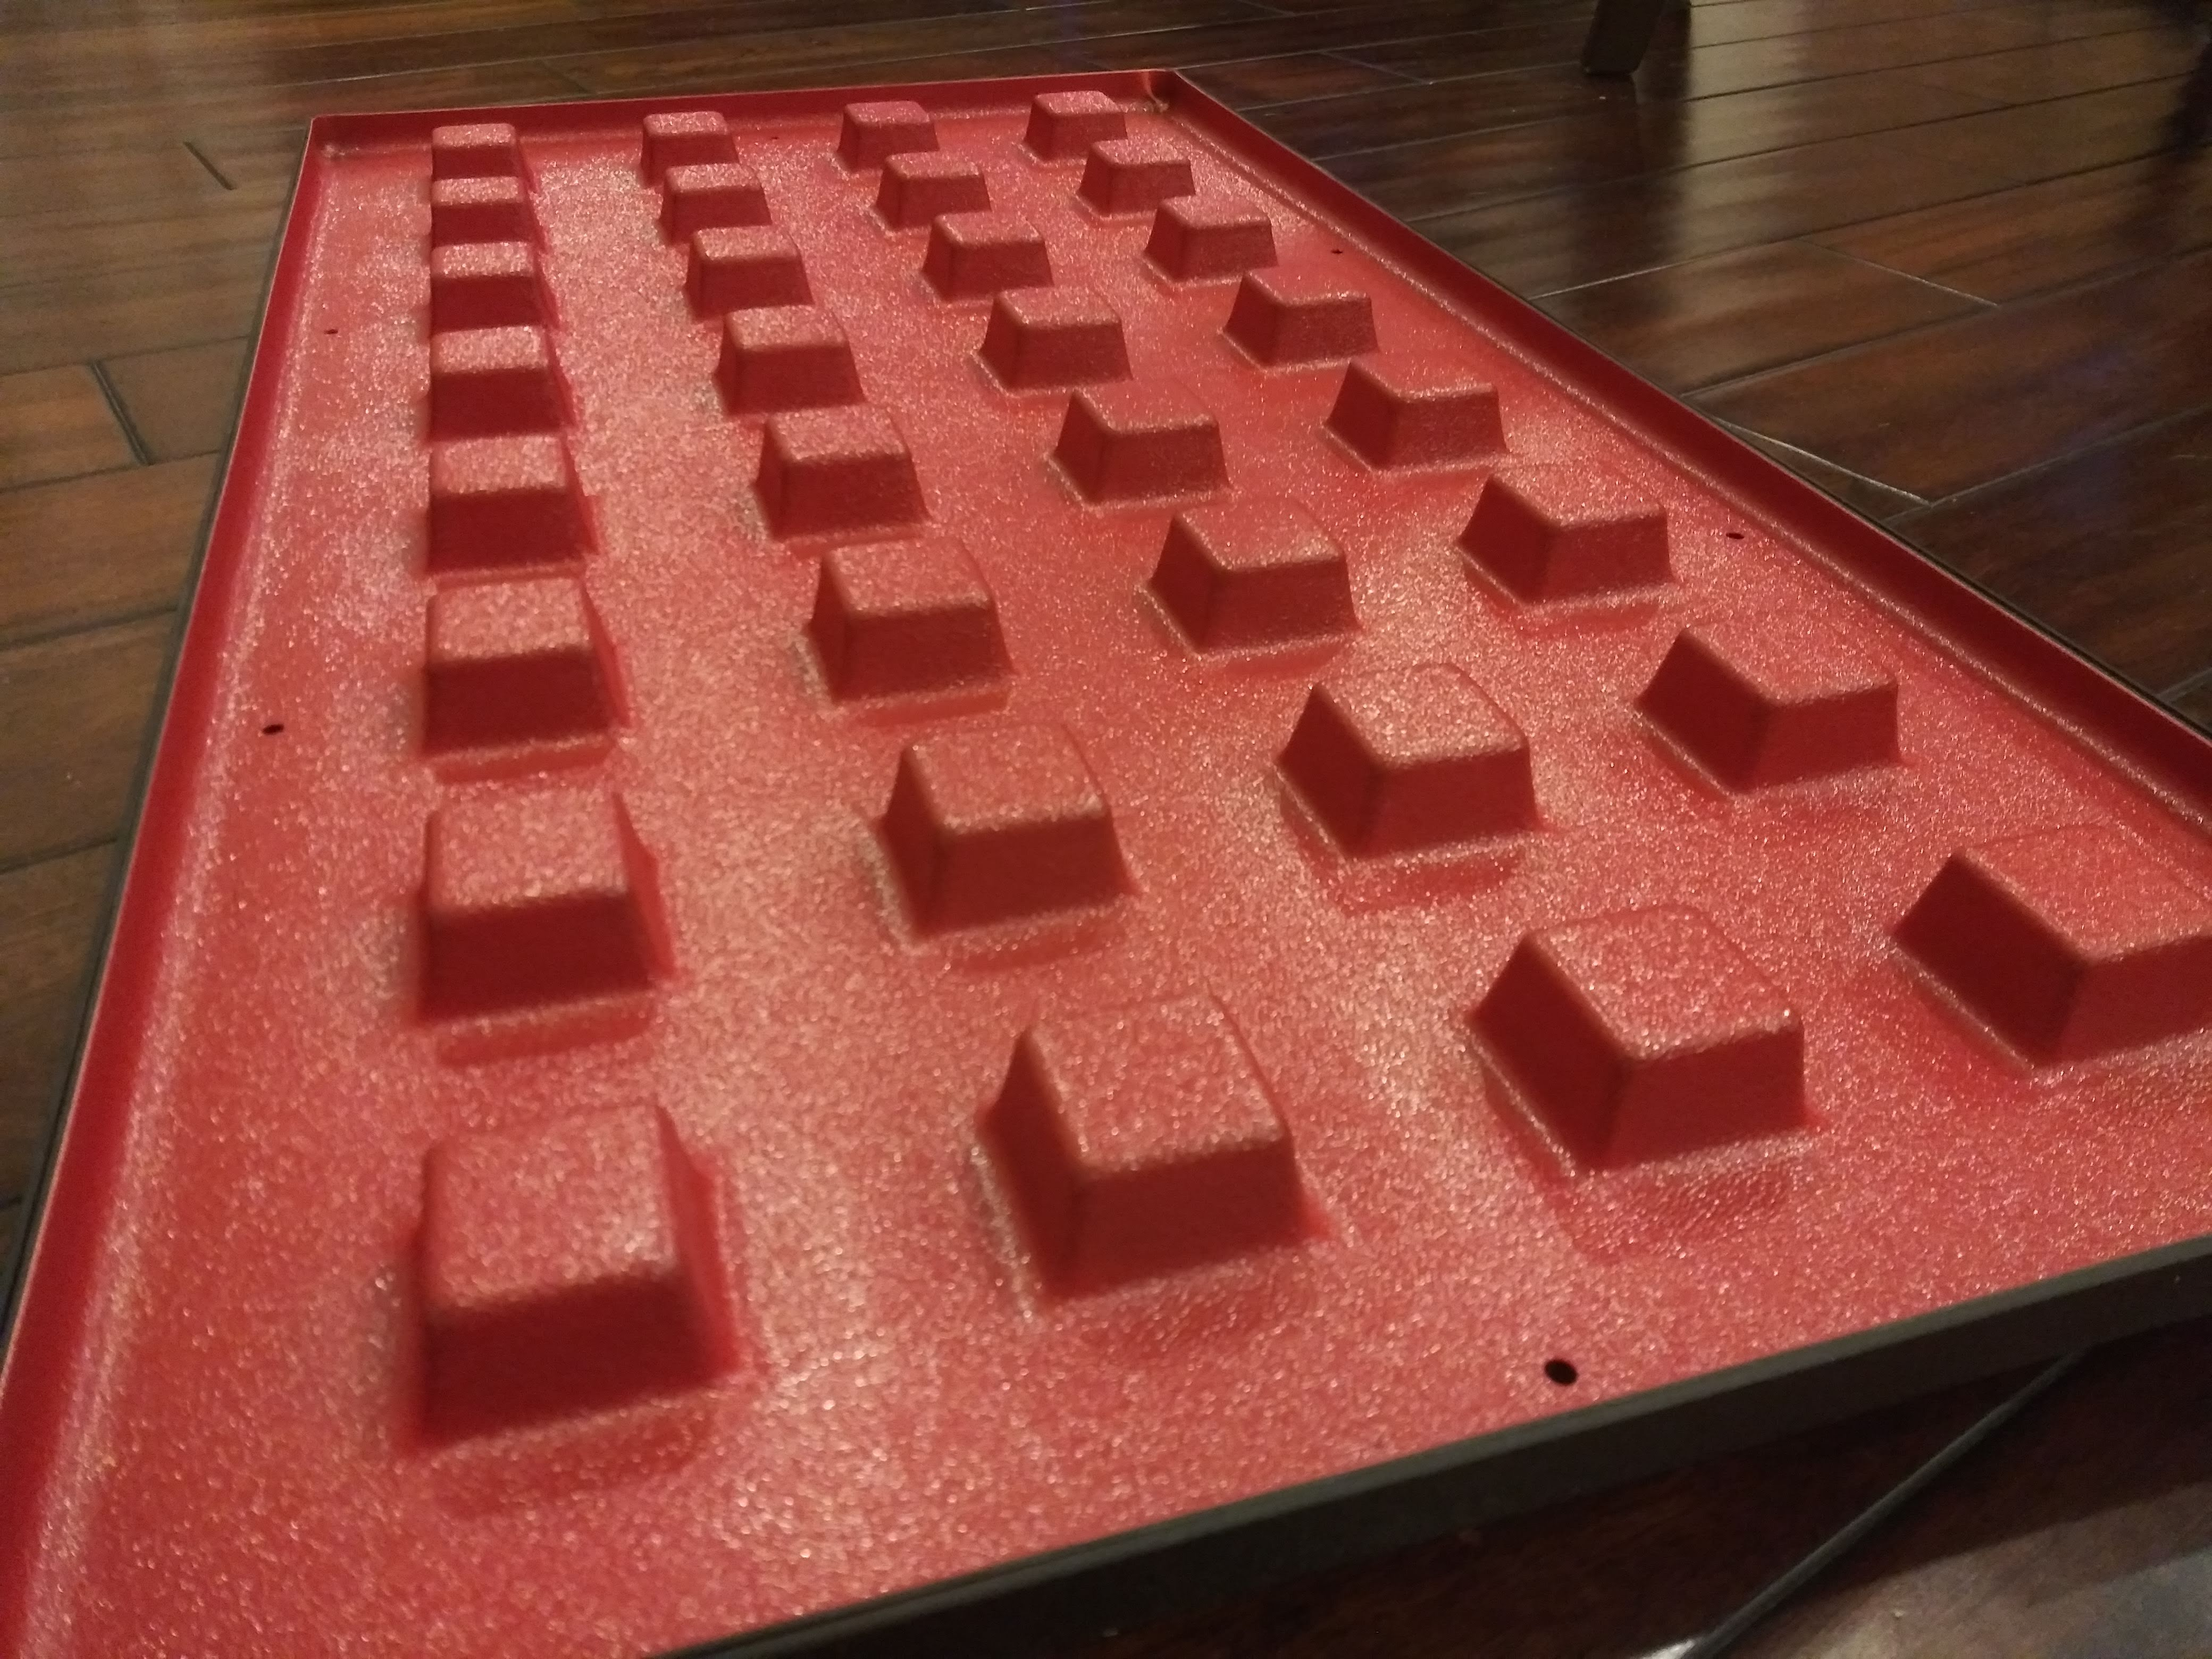red foundation: (195, 113, 2000, 1537)
